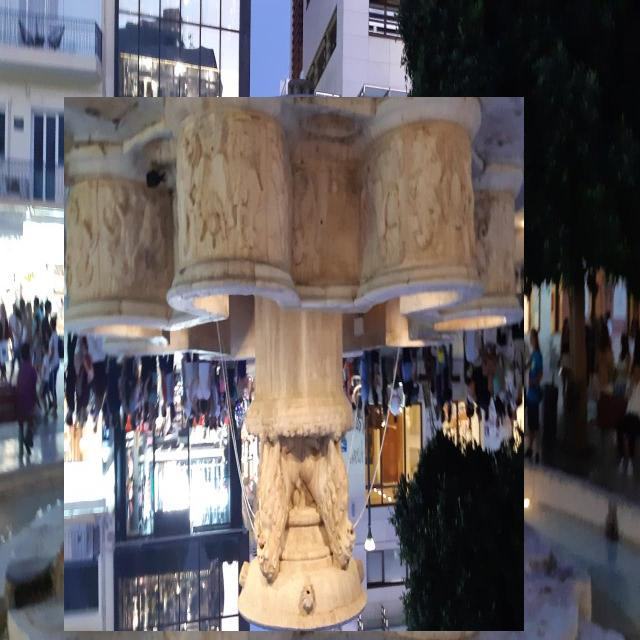Liontaria: (66, 98, 526, 632)
